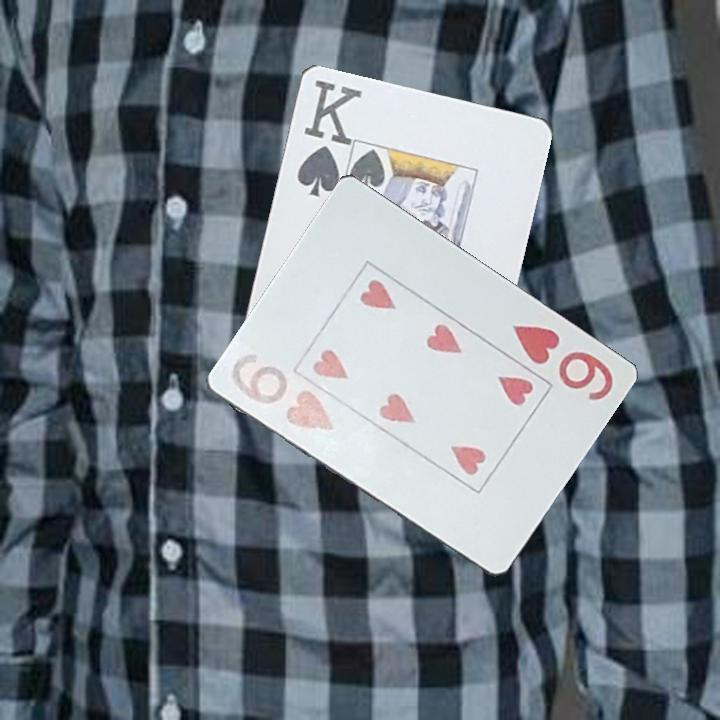6h: (222, 347, 337, 439), (508, 321, 616, 404)
Ks: (293, 75, 361, 200)
